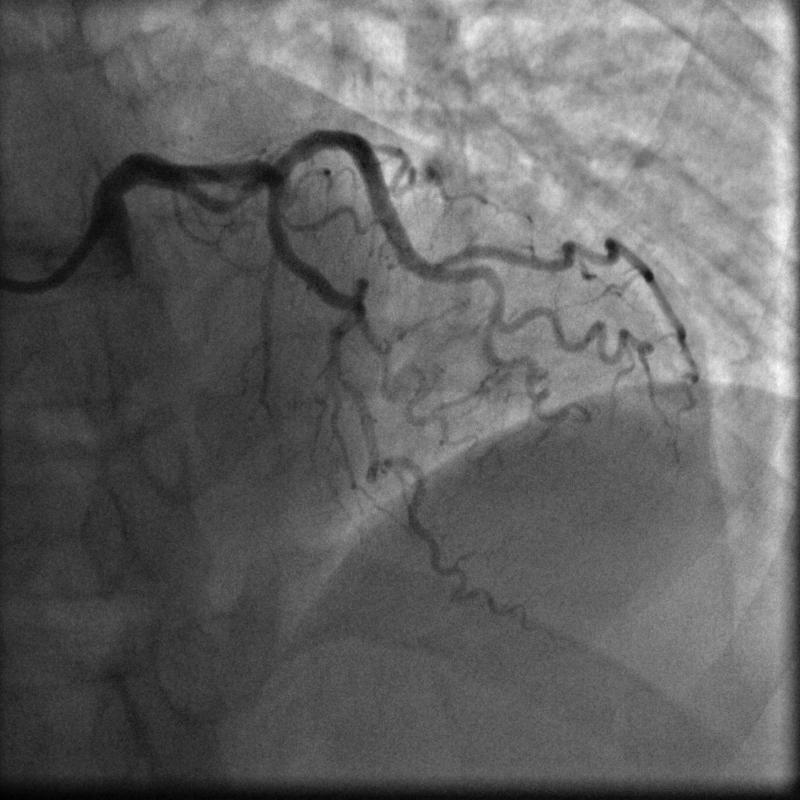Stenosis: (216, 176, 260, 211)
